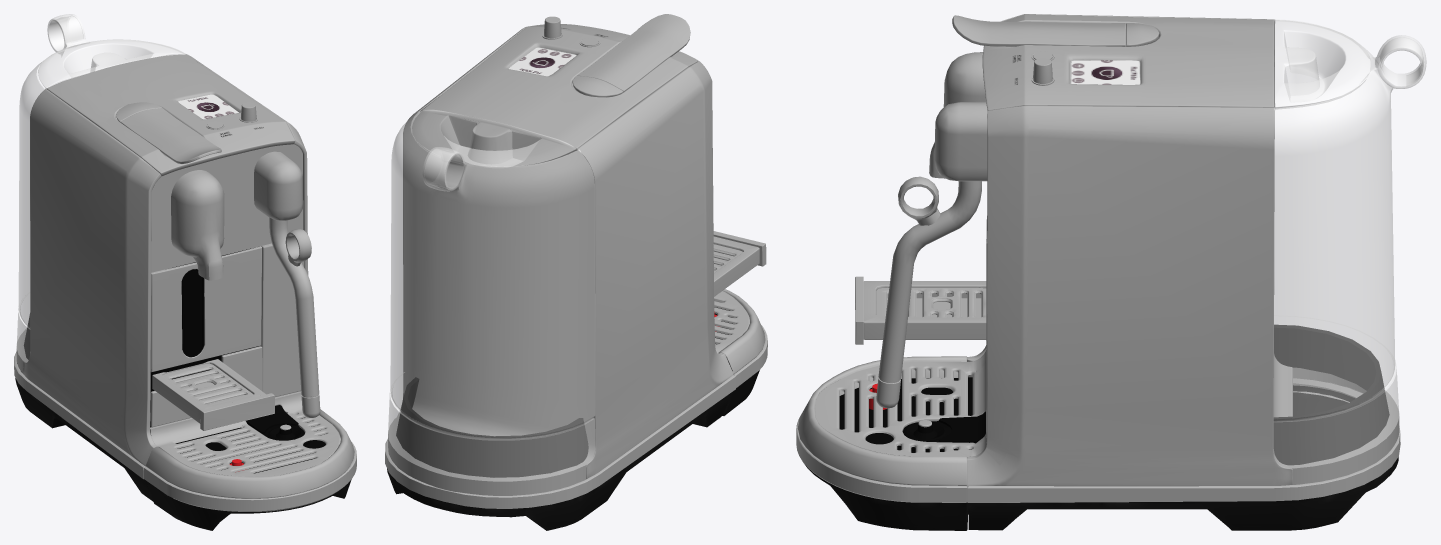
3 views of the same model, side by side, from view 1: azimuth 30°, elevation 25°; view 2: azimuth 150°, elevation 25°; view 3: azimuth 270°, elevation 25° (orthographic). The views are drawn at different scales.
Visible parts, largest first — view 1: creatista_plus_steel, creatista_plus_steel_clear; view 2: creatista_plus_steel, creatista_plus_steel_clear; view 3: creatista_plus_steel, creatista_plus_steel_clear.
Boxes of the visible parts, bbox=[...] form: creatista_plus_steel: bbox=[14, 54, 356, 530]; creatista_plus_steel_clear: bbox=[16, 14, 191, 362]; creatista_plus_steel: bbox=[385, 14, 767, 530]; creatista_plus_steel_clear: bbox=[388, 109, 595, 481]; creatista_plus_steel: bbox=[796, 14, 1400, 530]; creatista_plus_steel_clear: bbox=[1273, 19, 1426, 468].
Bounding box in the file's own units: 0.1702 × 0.3048 × 0.3912.
Materials: 2 (2 with a texture image).
